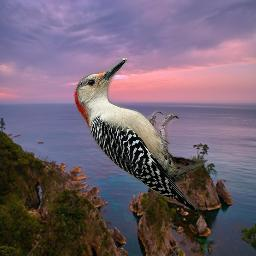Woodpecker: (73, 57, 208, 213)
